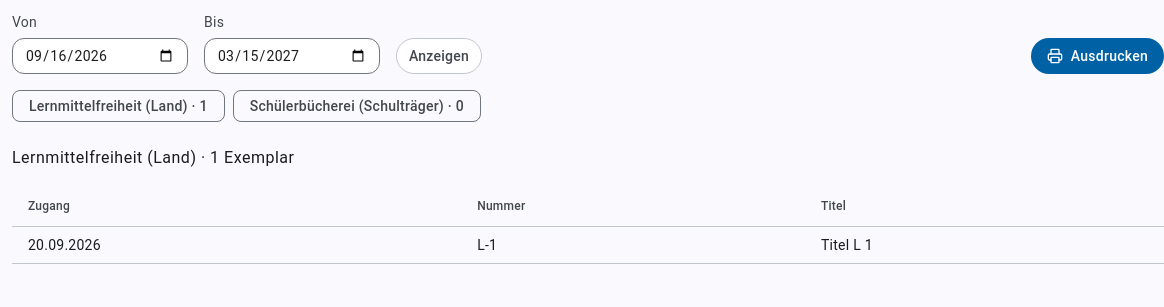
Scenario: Bestandsbuch: Zeitraum über ein Jahr › zeigt den Satz des Servers und druckt weiter den geladenen Zeitraum
Expected: the element named "Nach Mittelherkunft filtern" is shown, [12, 90, 481, 122]
Type "2025-09-16" into the date field labelled "Von".
click(100, 56); type("2025-09-16")  # box [12, 38, 188, 74]
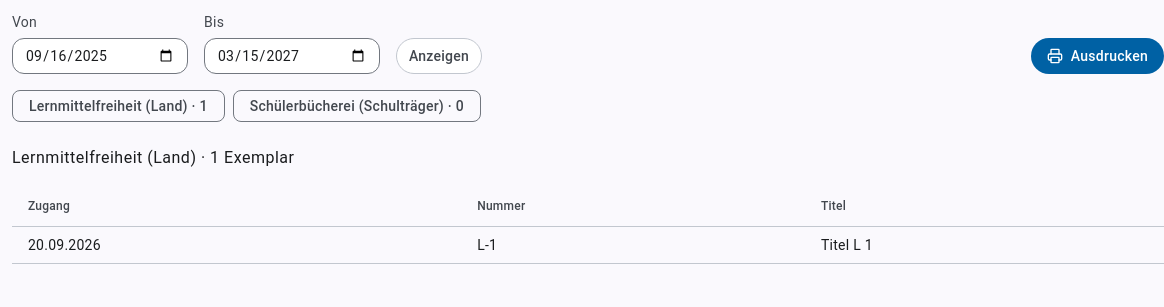
Click the button "Anzeigen".
click(439, 56)  # box [396, 38, 482, 74]
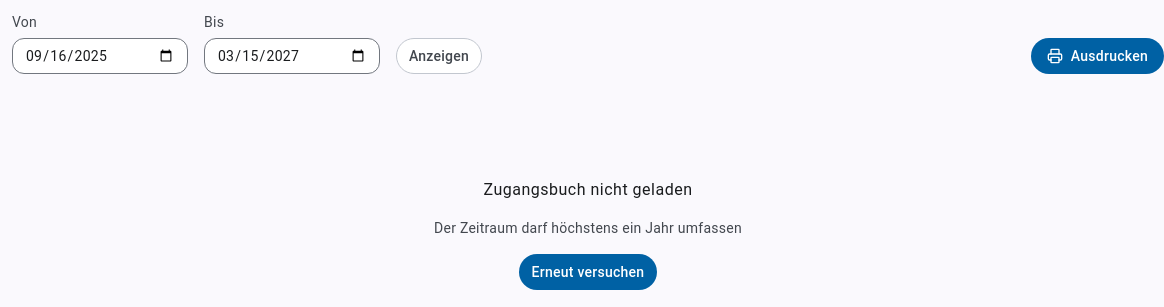
Now the text "Der Zeitraum darf höchstens ein Jahr umfassen" is shown, box [434, 218, 742, 238]
